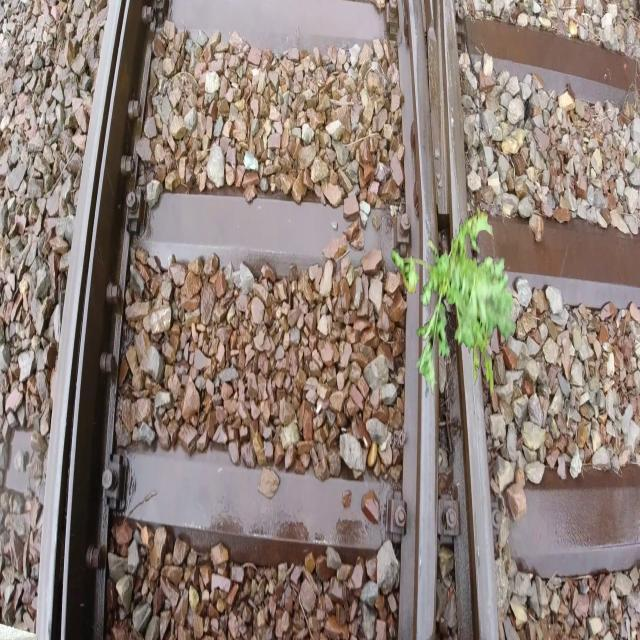Plant: (392, 203, 517, 399)
